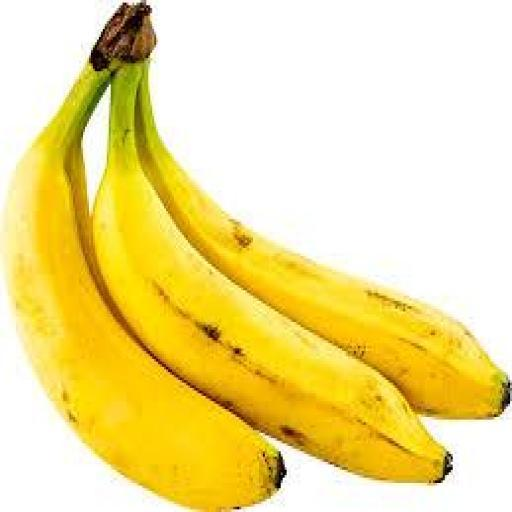banana: (93, 69, 450, 482), (137, 77, 510, 416), (4, 64, 284, 509)
